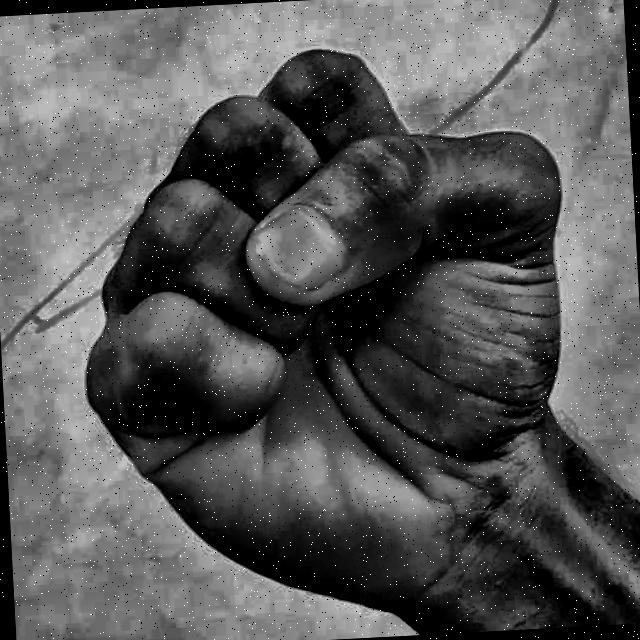Sha: (28, 11, 599, 640)
